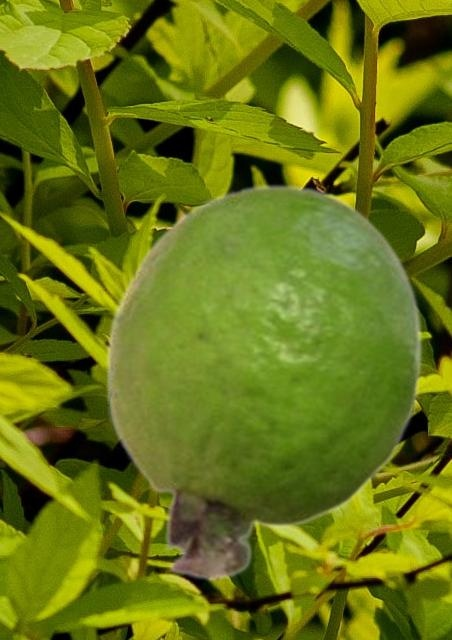guava: (105, 182, 423, 581)
